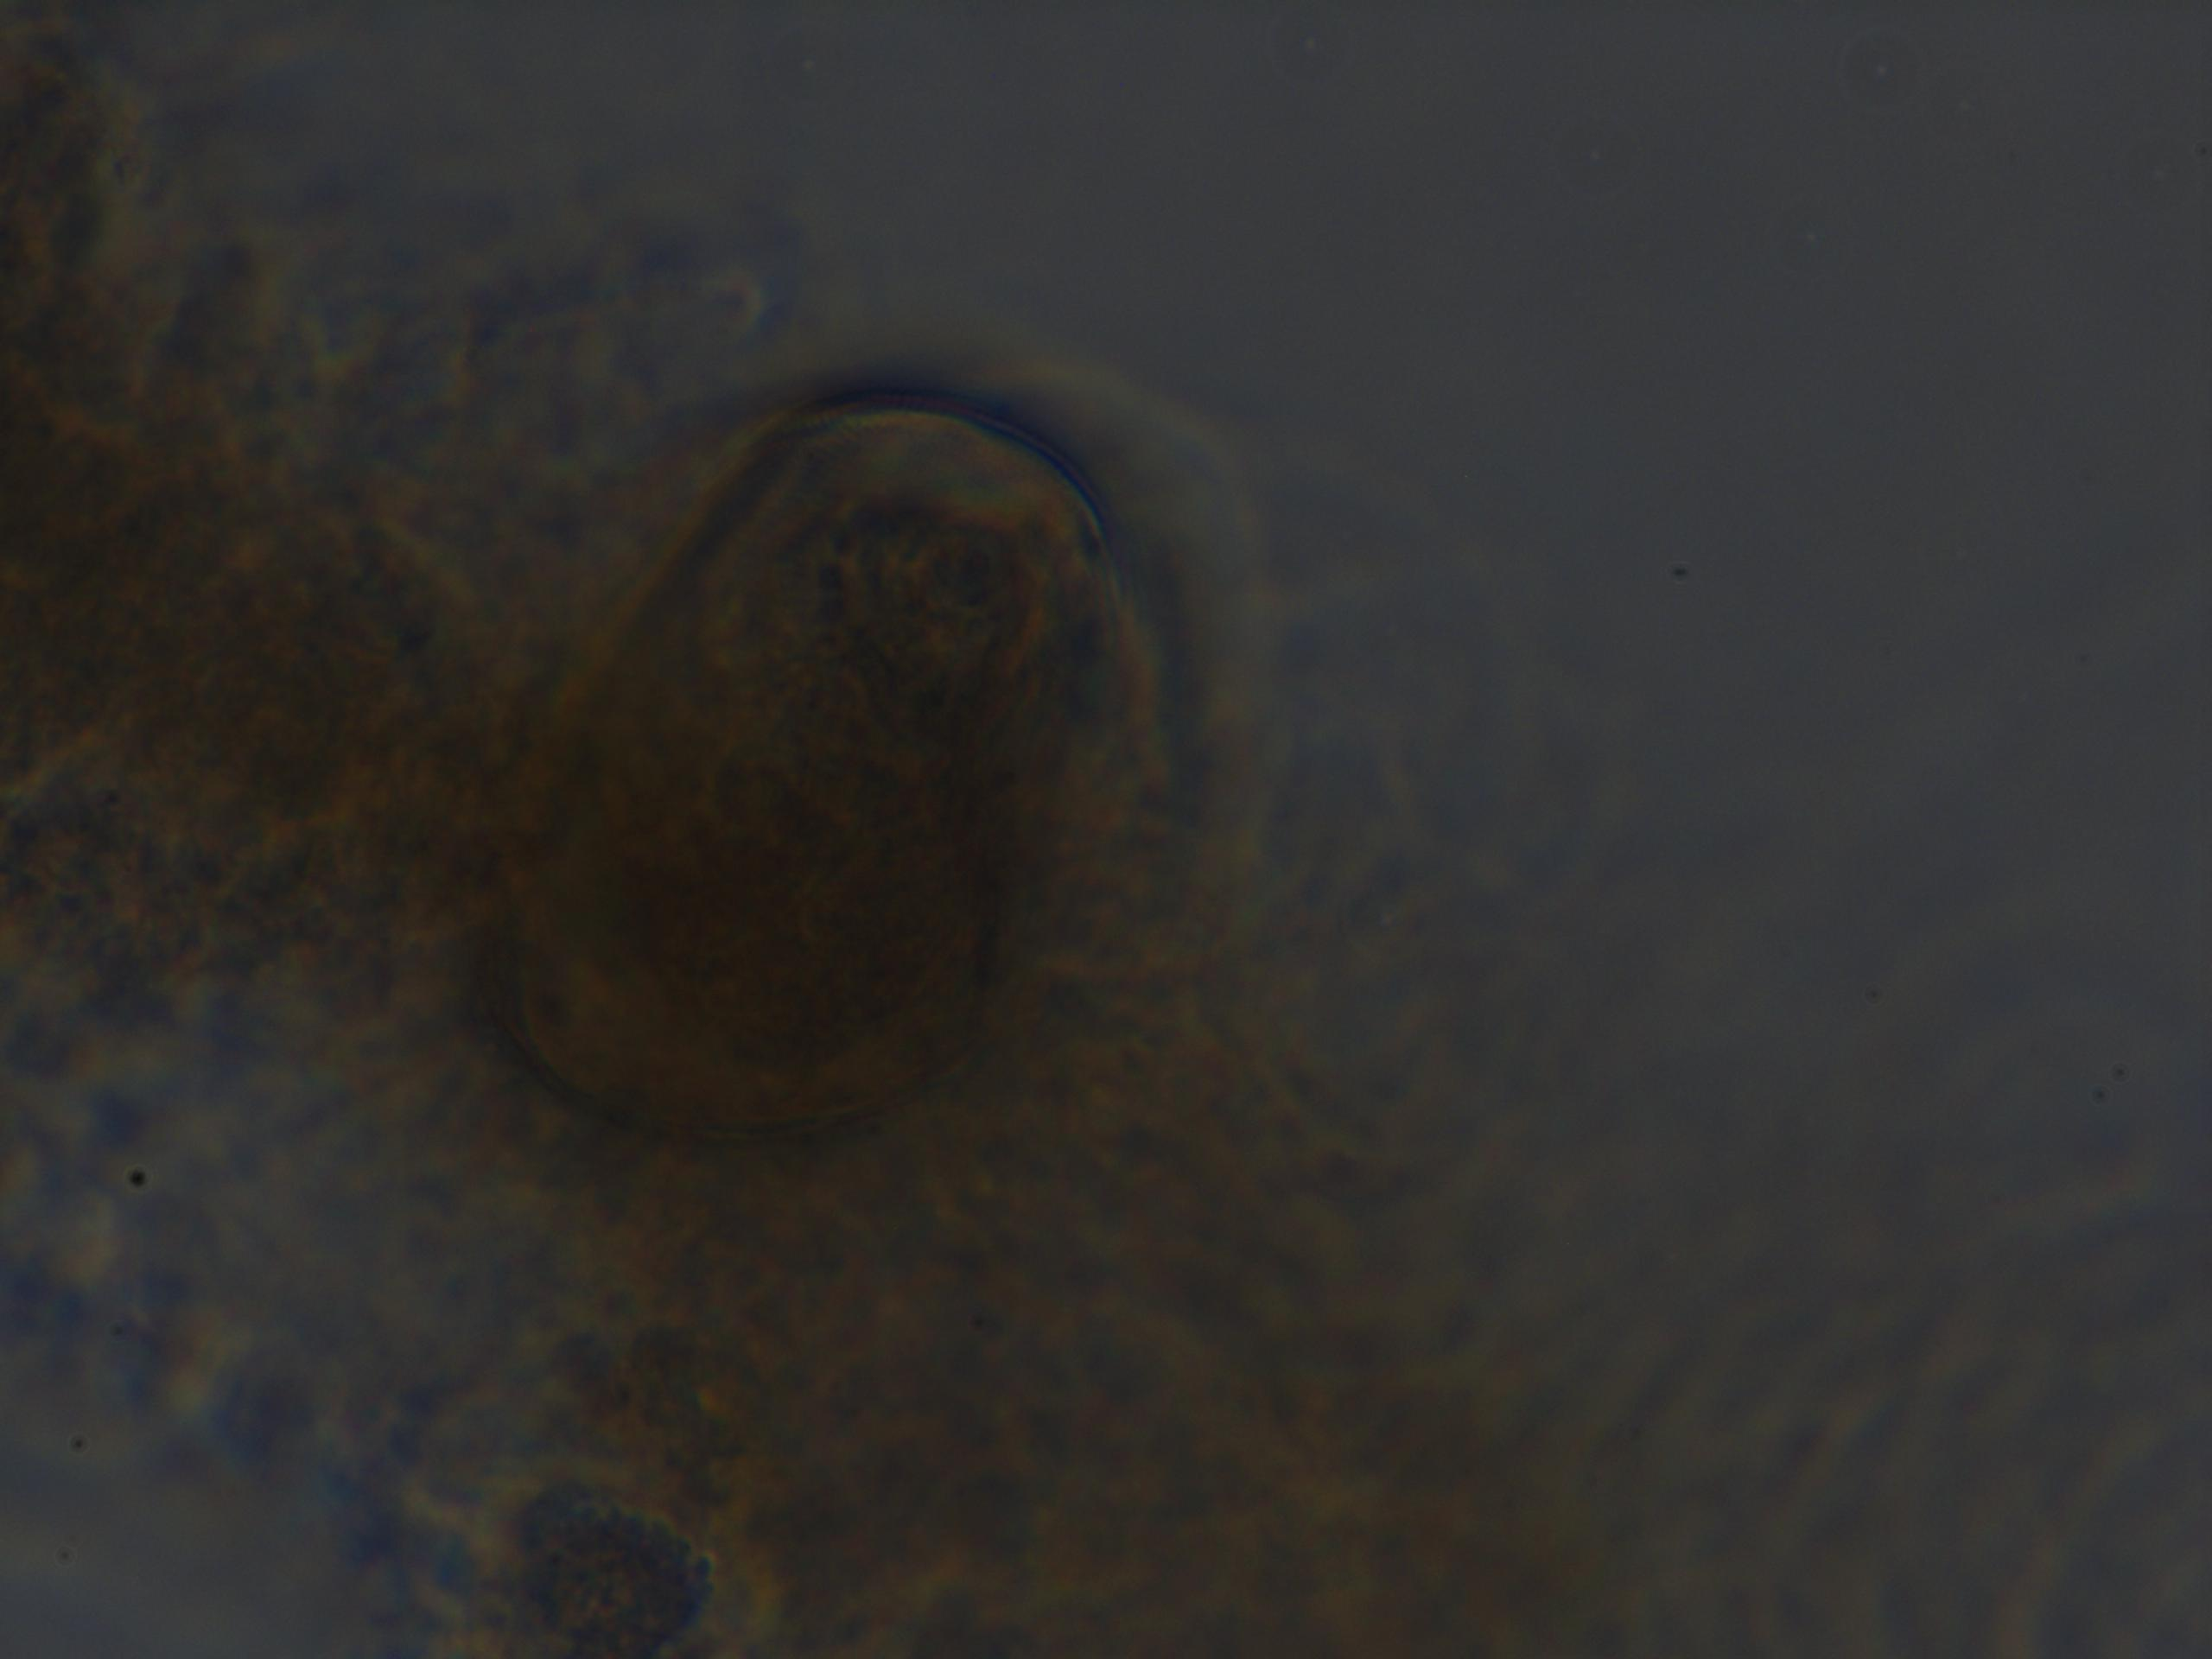protozoa: (491, 355, 1233, 1171)
